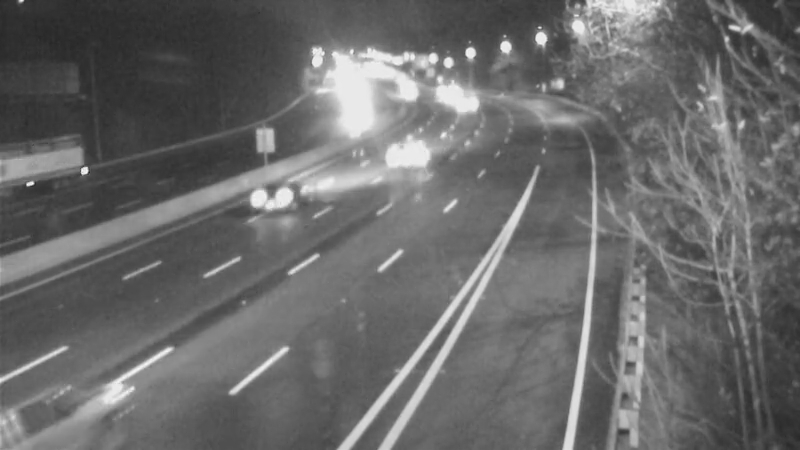vehicle: (1, 354, 104, 450), (240, 158, 320, 238), (439, 80, 489, 130), (397, 125, 447, 175)
